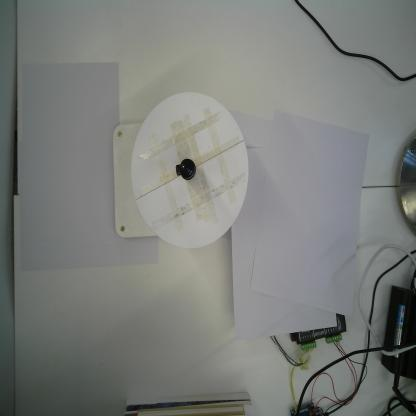Stationery: (176, 158, 196, 180)
